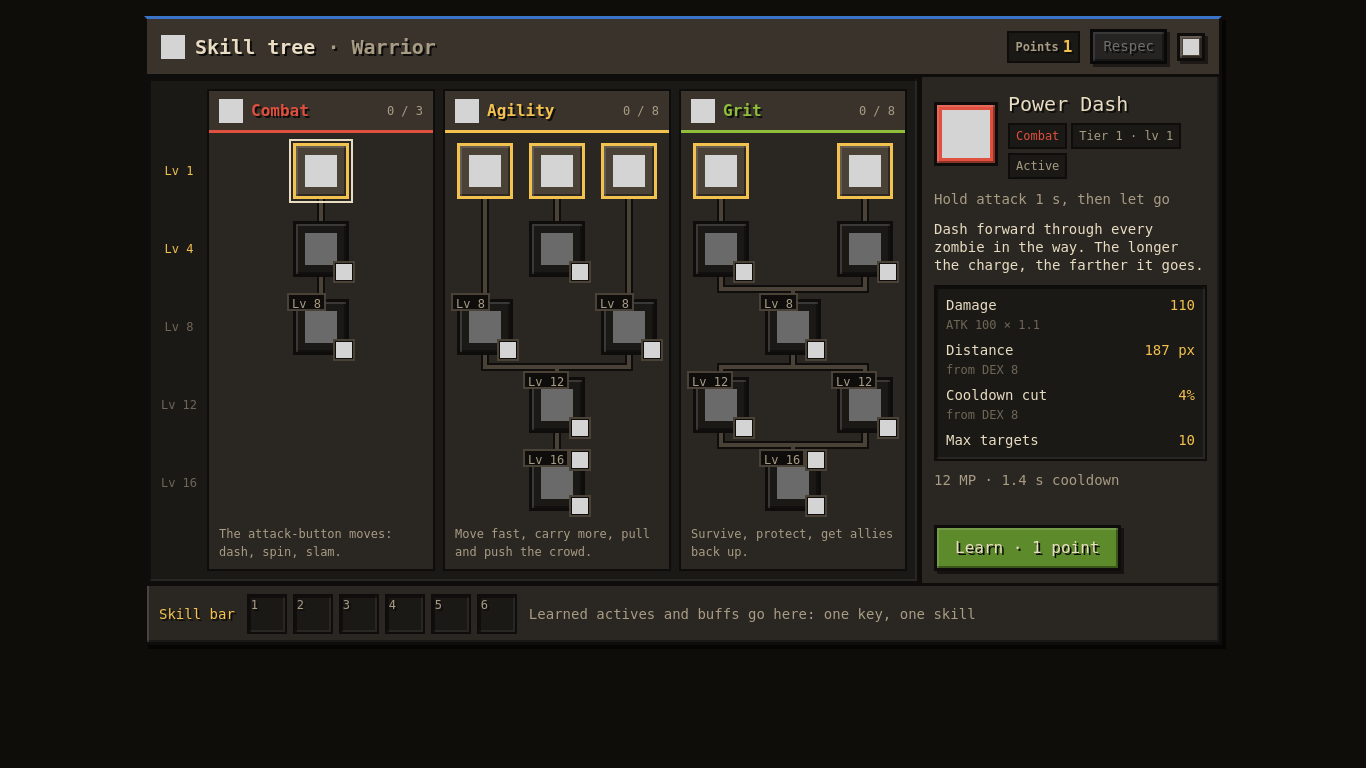
Test: TreeSkillWindowComponent › shows live values from stats and the cost line
Click the button named "Shoulder Charge": (485, 171) x1=457 y1=143 x2=513 y2=199
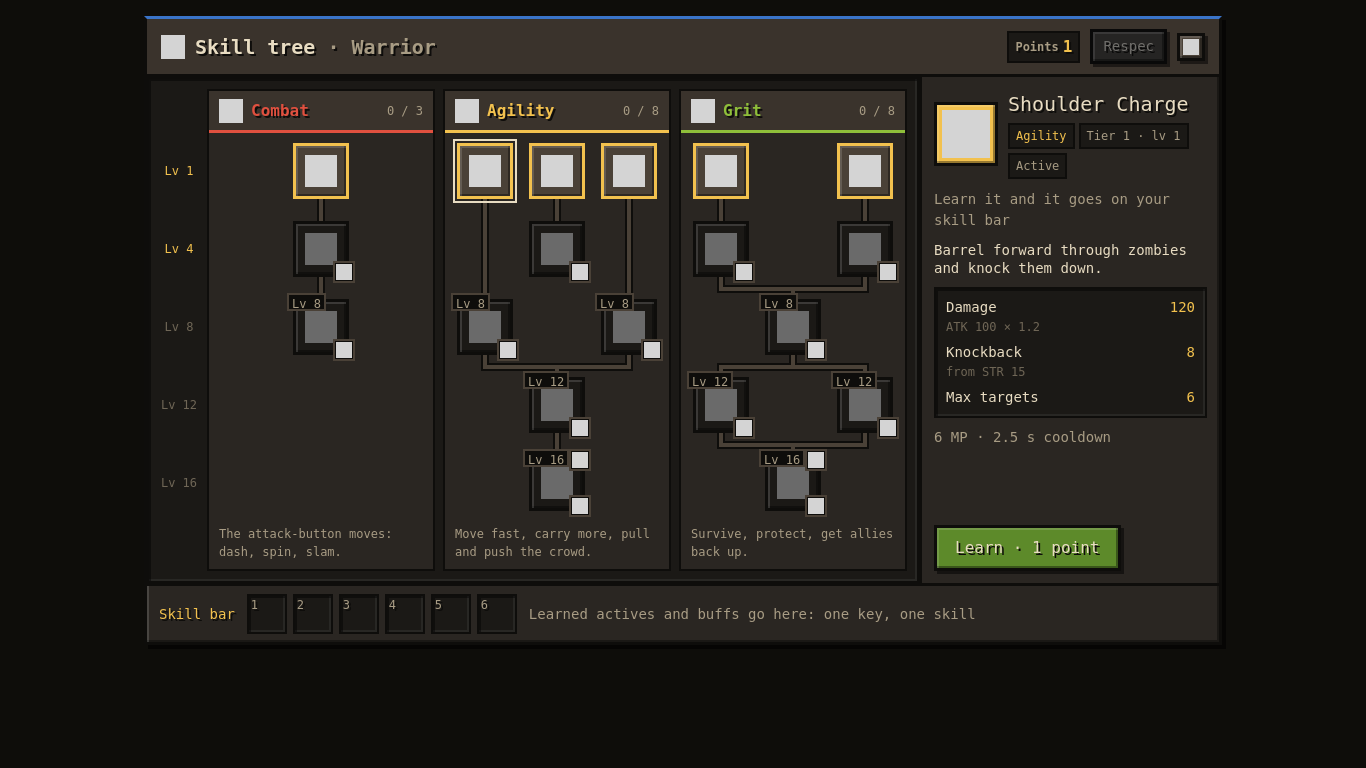
Now the element that starts with "Damage" shows "120", box x1=1170 y1=299 x2=1195 y2=315
Now the element that starts with "Damage" shows "ATK 100 × 1.2", box x1=946 y1=320 x2=1040 y2=334
Now the element that starts with "Damage" shows "Knockback", box x1=946 y1=344 x2=1022 y2=360
